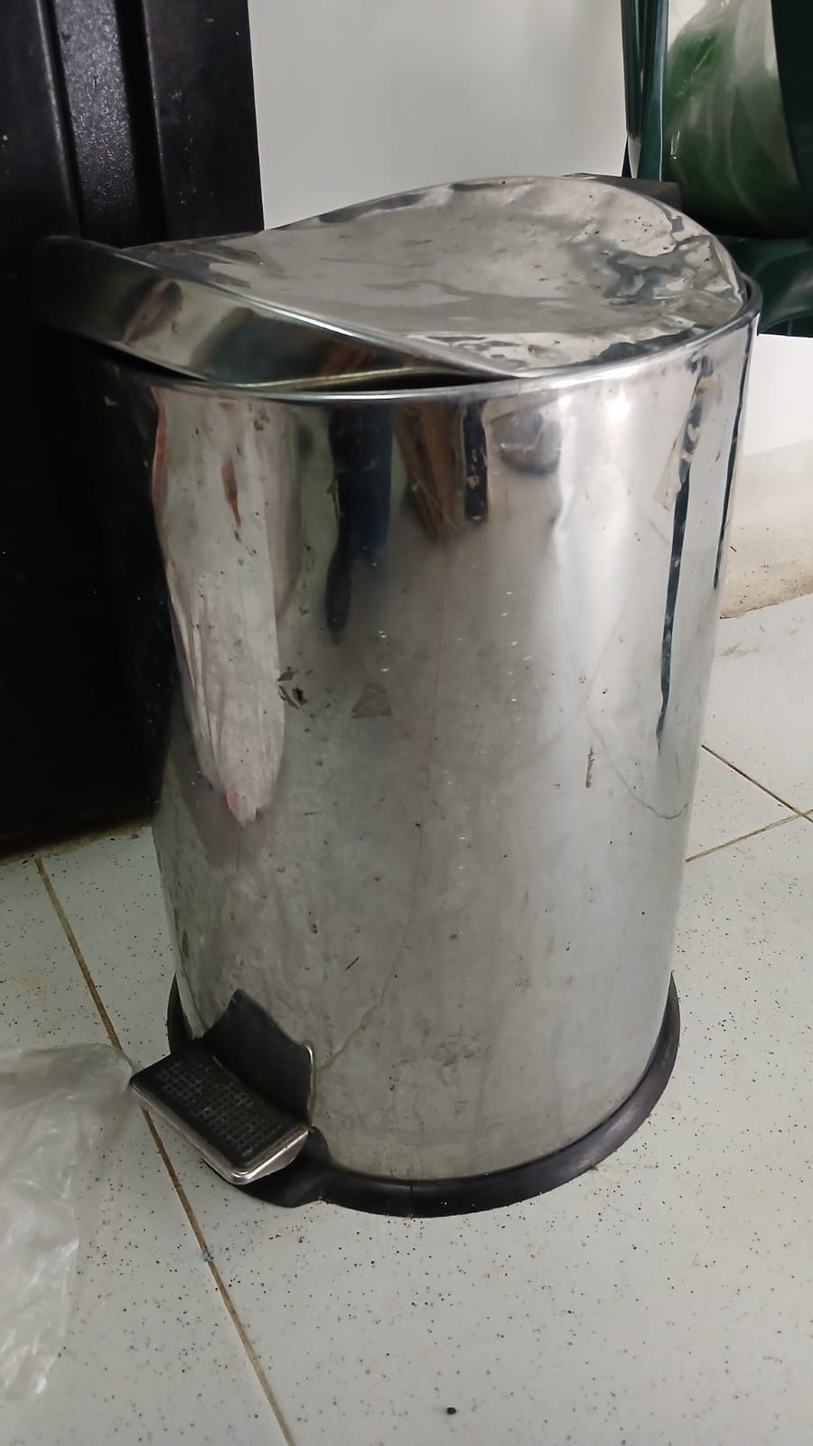Metal: (54, 173, 762, 1214)
